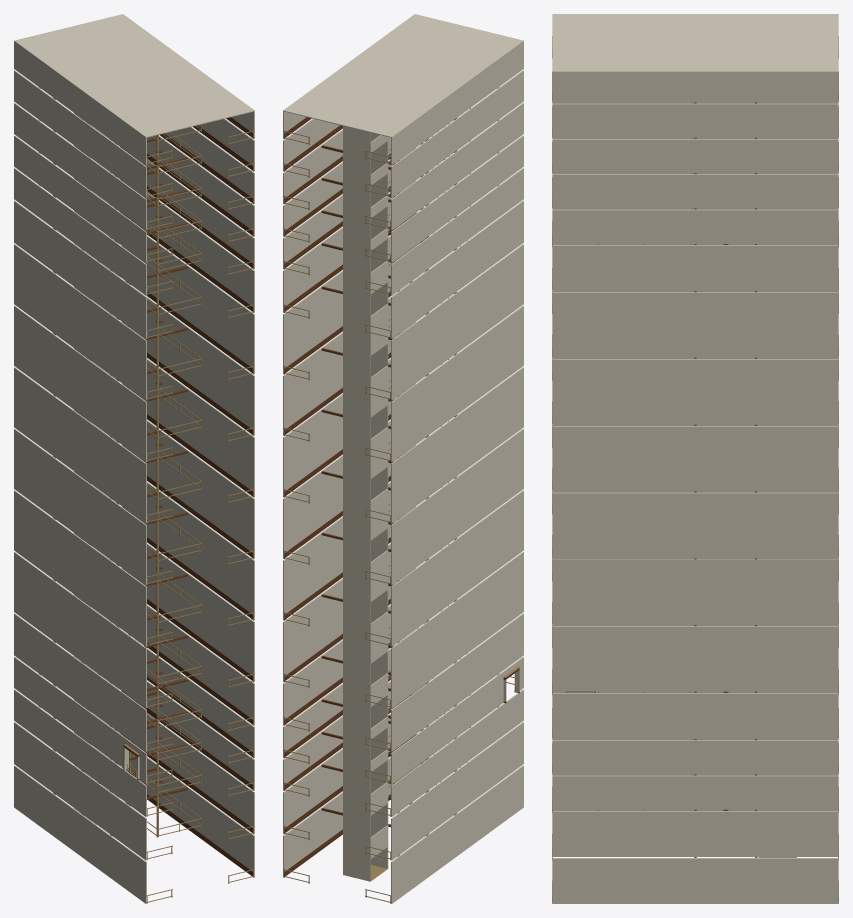
The model's file is AST-CIR-005_aft_midship_d04_port_threshold_r001.glb.
The picture shows the model from 3 angles, left to right: view 1: azimuth 30°, elevation 25°; view 2: azimuth 150°, elevation 25°; view 3: azimuth 270°, elevation 25°; orthographic projection. The views are drawn at different scales.
Parts seen in each view (by area): view 1: CORE_TopCover, CORE_OuterWall_06_-1, CORE_OuterWall_10_-1, CORE_OuterWall_09_-1, CORE_OuterWall_05_-1, CORE_OuterWall_07_-1, CORE_OuterWall_08_-1, CORE_OuterWall_09_1, CORE_OuterWall_06_1, CORE_OuterWall_08_1, CORE_OuterWall_07_1, CORE_OuterWall_05_1 (+37 smaller); view 2: CORE_ShaftNorth, CORE_TopCover, CORE_OuterWall_06_-1, CORE_OuterWall_10_-1, CORE_OuterWall_09_-1, CORE_OuterWall_05_-1, CORE_OuterWall_07_-1, CORE_OuterWall_08_-1, CORE_ShaftSouth, CORE_OuterWall_01_-1, CORE_OuterWall_00_-1, CORE_OuterWall_04_-1 (+31 smaller); view 3: CORE_OuterWall_07_1, CORE_OuterWall_05_1, CORE_OuterWall_06_1, CORE_OuterWall_08_1, CORE_OuterWall_09_1, CORE_OuterWall_10_1, CORE_TopCover, CORE_OuterWall_00_1, CORE_OuterWall_01_1, CORE_OuterWall_04_1, CORE_OuterWall_11_1, CORE_OuterWall_02_1 (+8 smaller).
Part boxes in pixels (box(x1,y1,x2,y2)): CORE_TopCover: box(14, 14, 254, 137); CORE_OuterWall_06_-1: box(14, 490, 146, 646); CORE_OuterWall_10_-1: box(14, 244, 146, 400); CORE_OuterWall_09_-1: box(14, 305, 146, 461); CORE_OuterWall_05_-1: box(14, 552, 146, 708); CORE_OuterWall_07_-1: box(14, 429, 146, 585); CORE_OuterWall_08_-1: box(14, 367, 146, 523); CORE_OuterWall_09_1: box(122, 279, 254, 435); CORE_OuterWall_06_1: box(122, 482, 254, 620); CORE_OuterWall_08_1: box(122, 358, 254, 497); CORE_OuterWall_07_1: box(122, 420, 254, 558); CORE_OuterWall_05_1: box(122, 543, 254, 681); CORE_ShaftNorth: box(343, 106, 370, 881); CORE_TopCover: box(283, 14, 523, 137); CORE_OuterWall_06_-1: box(391, 490, 523, 646); CORE_OuterWall_10_-1: box(391, 244, 523, 400); CORE_OuterWall_09_-1: box(391, 305, 523, 461); CORE_OuterWall_05_-1: box(391, 552, 523, 708); CORE_OuterWall_07_-1: box(391, 429, 523, 585); CORE_OuterWall_08_-1: box(391, 367, 523, 523); CORE_ShaftSouth: box(361, 94, 388, 868); CORE_OuterWall_01_-1: box(391, 722, 523, 860); CORE_OuterWall_00_-1: box(391, 765, 523, 903); CORE_OuterWall_04_-1: box(391, 613, 523, 751); CORE_OuterWall_07_1: box(552, 492, 838, 558); CORE_OuterWall_05_1: box(552, 626, 838, 691); CORE_OuterWall_06_1: box(552, 559, 838, 624); CORE_OuterWall_08_1: box(552, 426, 838, 491); CORE_OuterWall_09_1: box(552, 359, 838, 424); CORE_OuterWall_10_1: box(552, 292, 838, 357); CORE_TopCover: box(552, 14, 838, 72); CORE_OuterWall_00_1: box(552, 858, 838, 903); CORE_OuterWall_01_1: box(552, 811, 838, 856); CORE_OuterWall_04_1: box(552, 693, 838, 738); CORE_OuterWall_11_1: box(552, 245, 838, 290); CORE_OuterWall_02_1: box(552, 775, 838, 809).
Size of the model in its own units: 16.08 by 106 by 33.08.
Materials: 4 (3 with a texture image).
